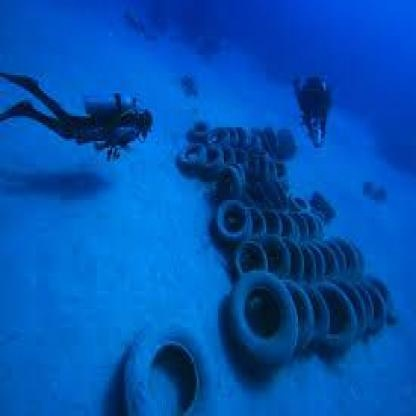tire: (110, 316, 210, 416), (233, 257, 303, 368), (306, 282, 359, 345), (209, 191, 262, 243), (215, 159, 251, 214), (304, 241, 345, 286), (271, 209, 304, 262), (239, 241, 269, 284), (179, 136, 207, 175), (189, 118, 215, 146)
